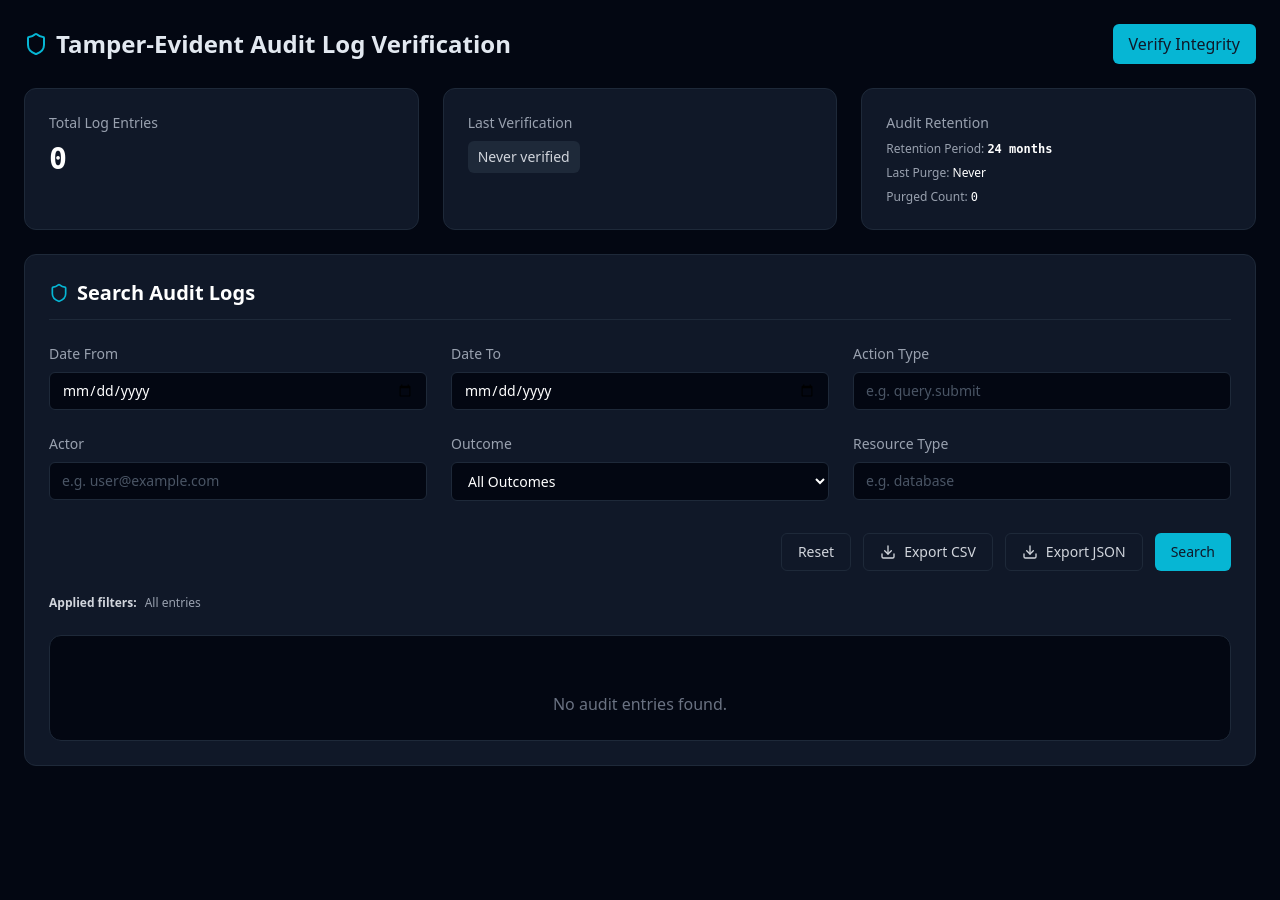
it: AdminAuditPage export cancellation (CHUNK-21 / IS-GAP-043) › renders a localized recoverable timeout distinct from generic failures and cancellations
Expected: the text "Total Log Entries" is shown, [49,113,158,132]
Click the button "Export CSV" at [928, 552], box [863,533,993,571]
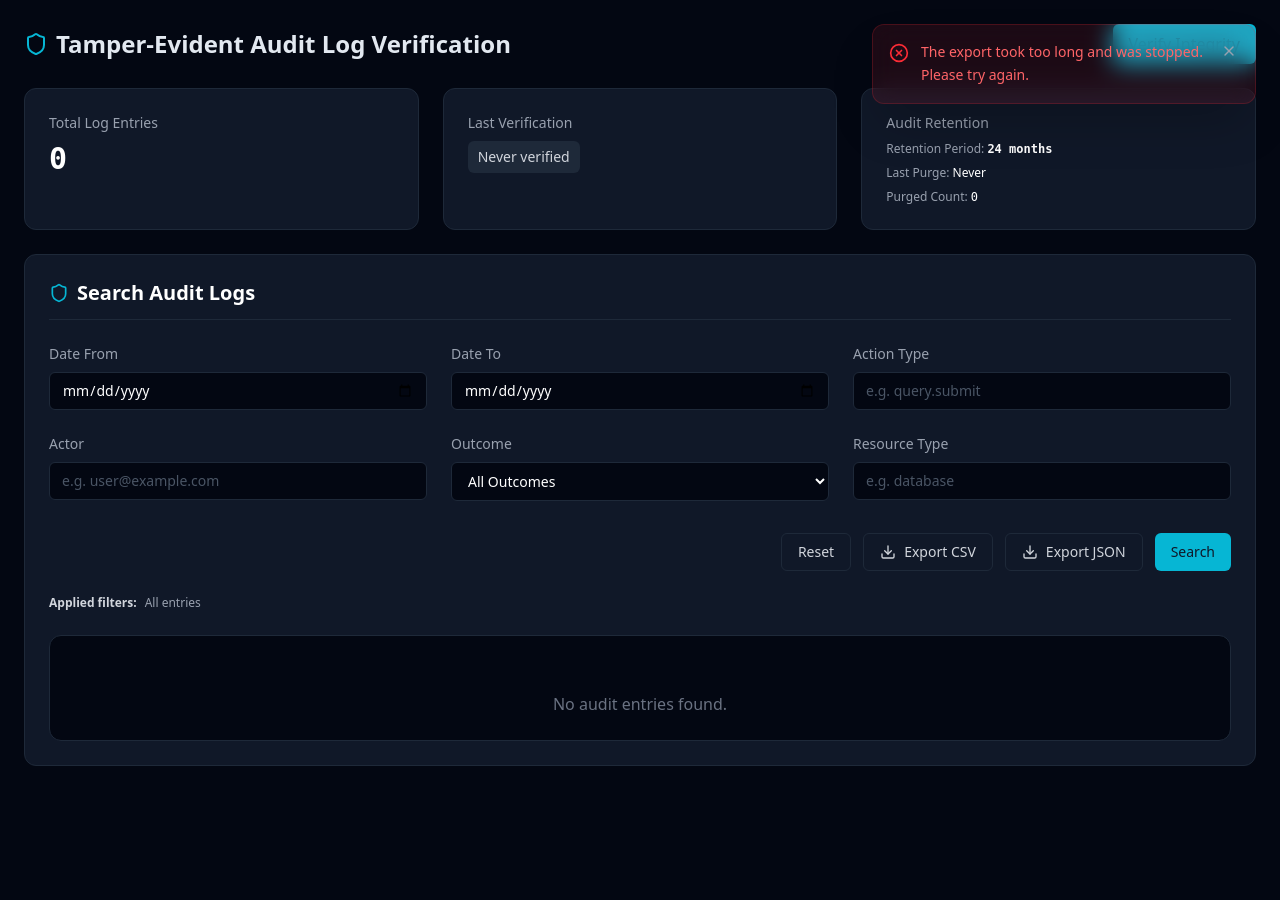
Now the text "The export took too long and was stopped. Please try again." is shown, box [921,41,1207,86]
